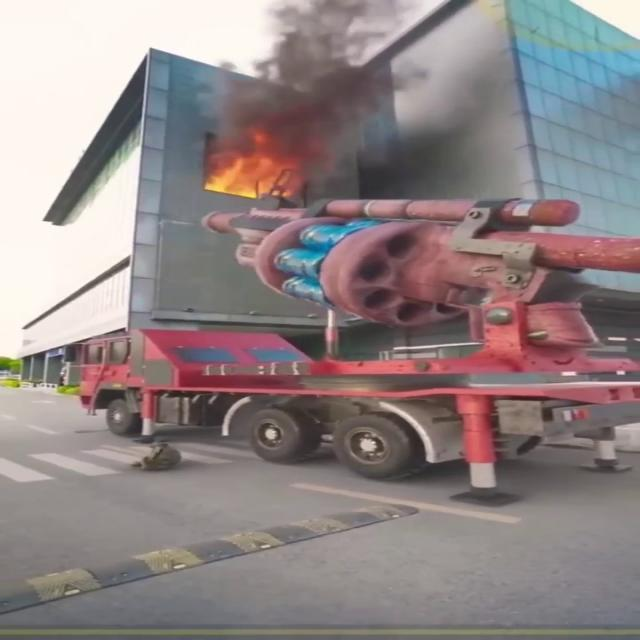Fire: (198, 126, 308, 200)
Smoke: (204, 1, 530, 185)
